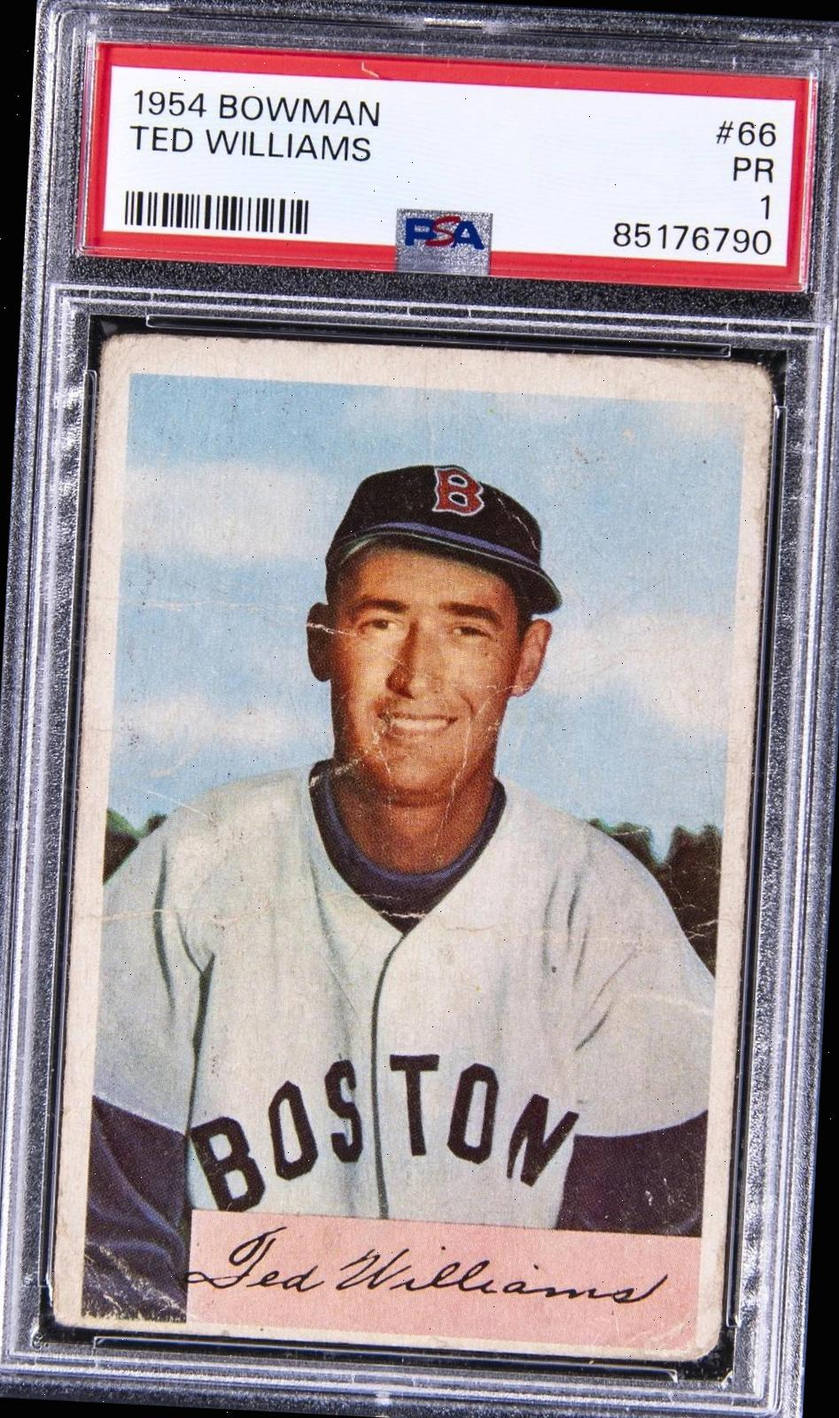card-2UtV: (51, 331, 774, 1363)
